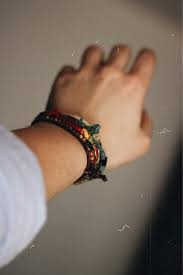hand: (30, 27, 166, 179)
